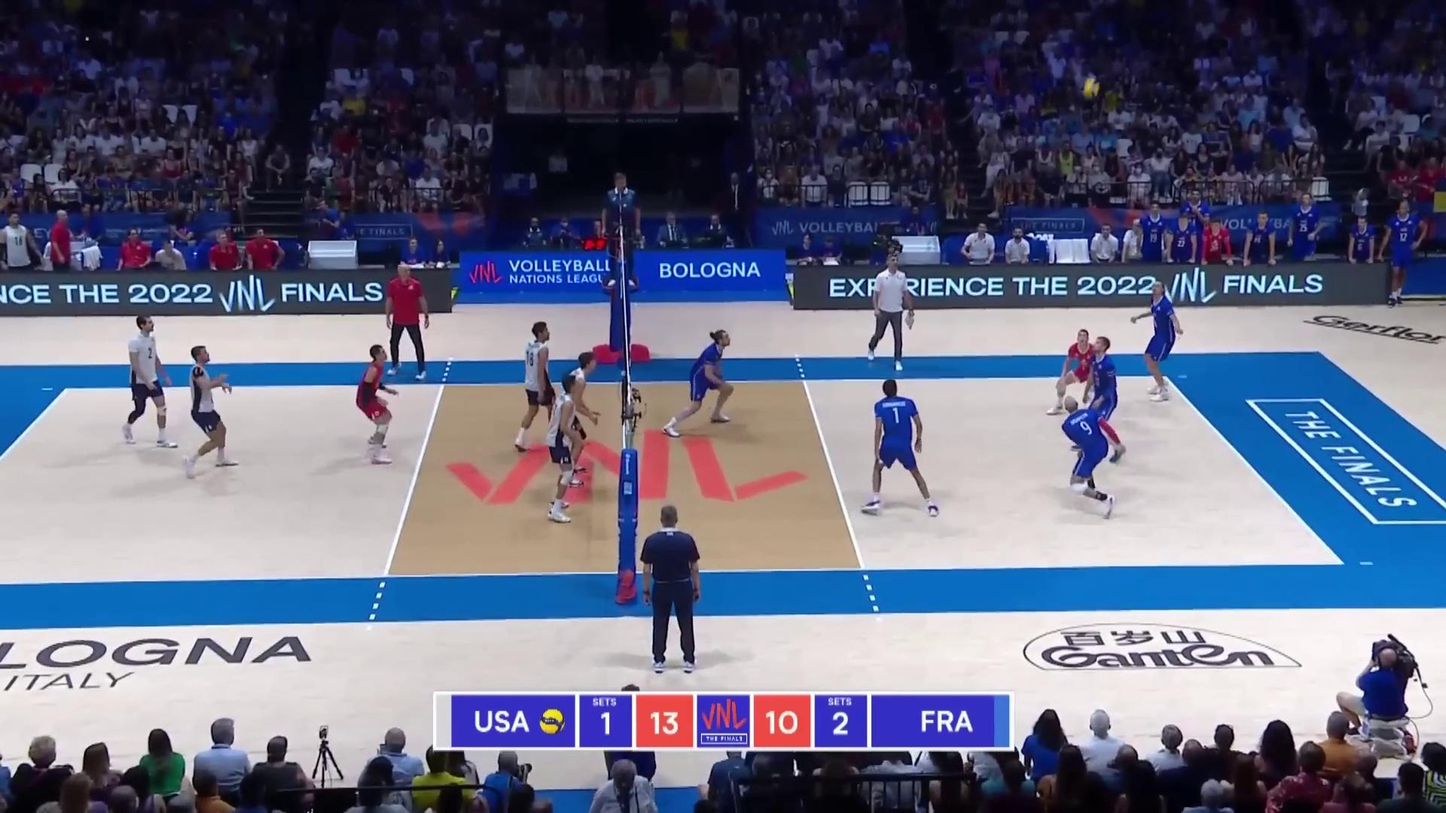player: (865, 377, 944, 512), (511, 322, 563, 456), (1063, 393, 1121, 513), (124, 314, 172, 453), (665, 330, 731, 431), (547, 379, 591, 526), (557, 344, 606, 476), (189, 345, 235, 472), (1075, 339, 1123, 457), (1135, 284, 1179, 407), (355, 346, 398, 462), (1047, 327, 1100, 417), (1085, 333, 1125, 424)
refree: (636, 507, 702, 672), (604, 177, 642, 288)
